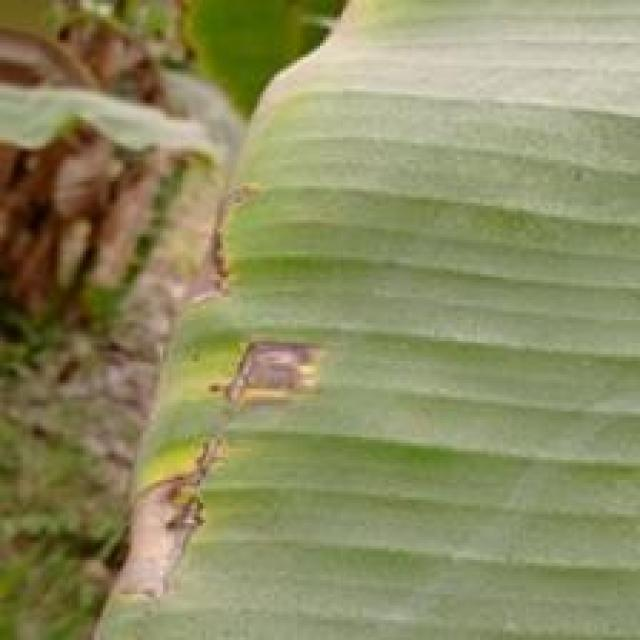Bacterial_spot: (114, 417, 233, 625), (182, 330, 338, 413), (183, 175, 255, 310)
